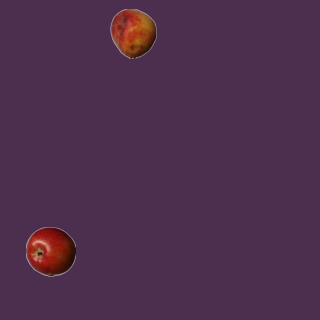Apple Braeburn: (25, 226, 75, 276)
Peach: (108, 8, 158, 58)
